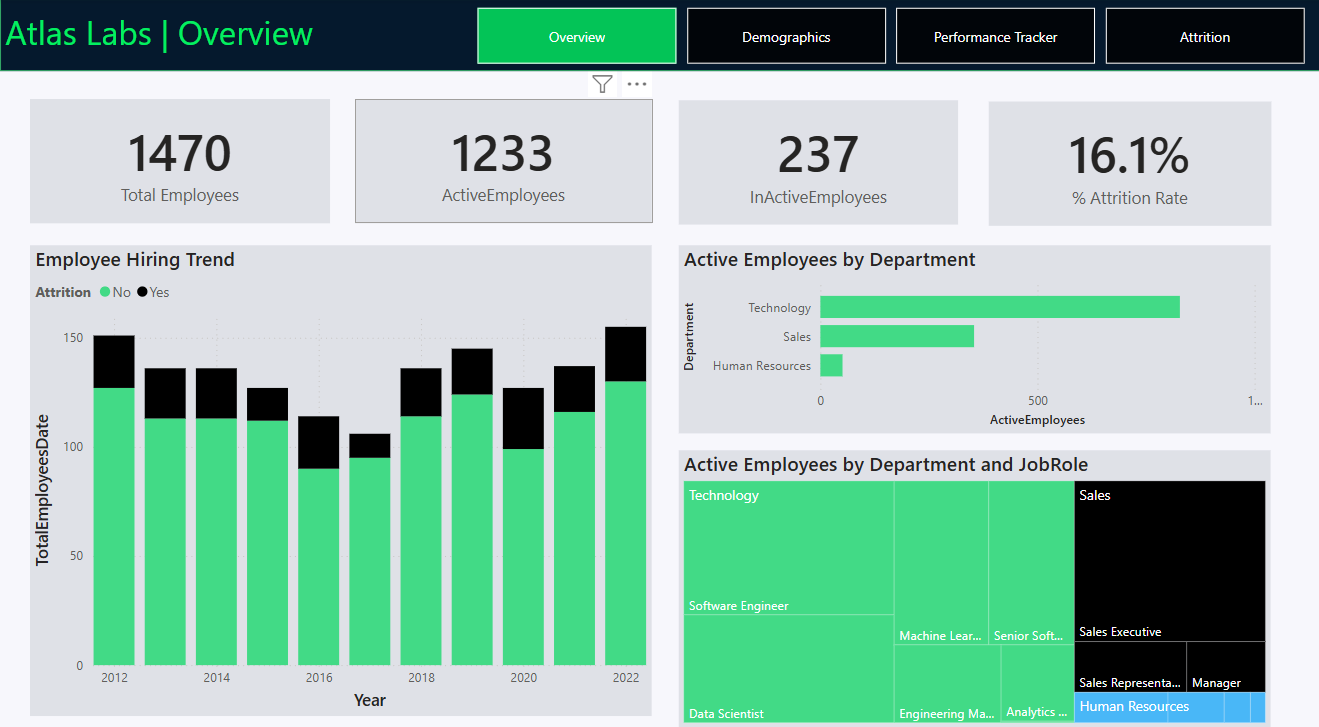

The dashboard page shown, as its layout file describes it:
{"tool":"powerbi","page":{"name":"Overview","canvas":[1280,720],"ordinal":0},"visuals":[{"type":"card","fields":{"Values":["__Measures.Total Employees"]},"box":[29,96,289.5,120.4],"z":0},{"type":"card","fields":{"Values":["__Measures.ActiveEmployees"]},"box":[342.9,96,286.5,120.4],"z":1000},{"type":"card","fields":{"Values":["__Measures.InActiveEmployees"]},"box":[655.2,97.5,269.7,120.4],"z":2000},{"type":"card","fields":{"Values":["__Measures.% Attrition Rate"]},"box":[953.9,99,272.8,120.4],"z":3000},{"type":"columnChart","title":"Employee Hiring Trend","fields":{"Category":["DimDate.Date.Variation.Date Hierarchy.Year","DimDate.Date.Variation.Date Hierarchy.Quarter","DimDate.Date.Variation.Date Hierarchy.Month","DimDate.Date.Variation.Date Hierarchy.Day"],"Y":["__Measures.TotalEmployeesDate"],"Series":["DimEmployee.Attrition"]},"box":[29,237.7,600.4,454.1],"z":4000},{"type":"clusteredBarChart","title":"Active Employees by Department","fields":{"Category":["DimEmployee.Department"],"Y":["__Measures.ActiveEmployees"]},"box":[655.2,237.7,571.4,181.3],"z":5000},{"type":"treemap","title":"Active Employees by Department and JobRole","fields":{"Group":["DimEmployee.Department"],"Details":["DimEmployee.JobRole"],"Values":["__Measures.ActiveEmployees"]},"box":[655.2,435.8,571.4,268.2],"z":6000},{"type":"shape","box":[0,0,1279.7,69.9],"z":7000},{"type":"textbox","box":[0,4.6,400.8,57.9],"z":8000},{"type":"pageNavigator","box":[460.3,8.6,800,54.2],"z":9000}]}

Visuals, with their boxes in screenshot pixels (x1, y1, x2, y2), scaled from the page's 1280x720 canvas onto the 1319x727 screenshot:
card - __Measures.Total Employees: crop(30, 97, 328, 219)
card - __Measures.ActiveEmployees: crop(353, 97, 649, 219)
card - __Measures.InActiveEmployees: crop(675, 98, 953, 220)
card - __Measures.% Attrition Rate: crop(983, 100, 1264, 222)
"Employee Hiring Trend" columnChart: crop(30, 240, 649, 699)
"Active Employees by Department" clusteredBarChart: crop(675, 240, 1264, 423)
"Active Employees by Department and JobRole" treemap: crop(675, 440, 1264, 711)
shape: crop(0, 0, 1318, 71)
textbox: crop(0, 5, 413, 63)
pageNavigator: crop(474, 9, 1299, 63)
